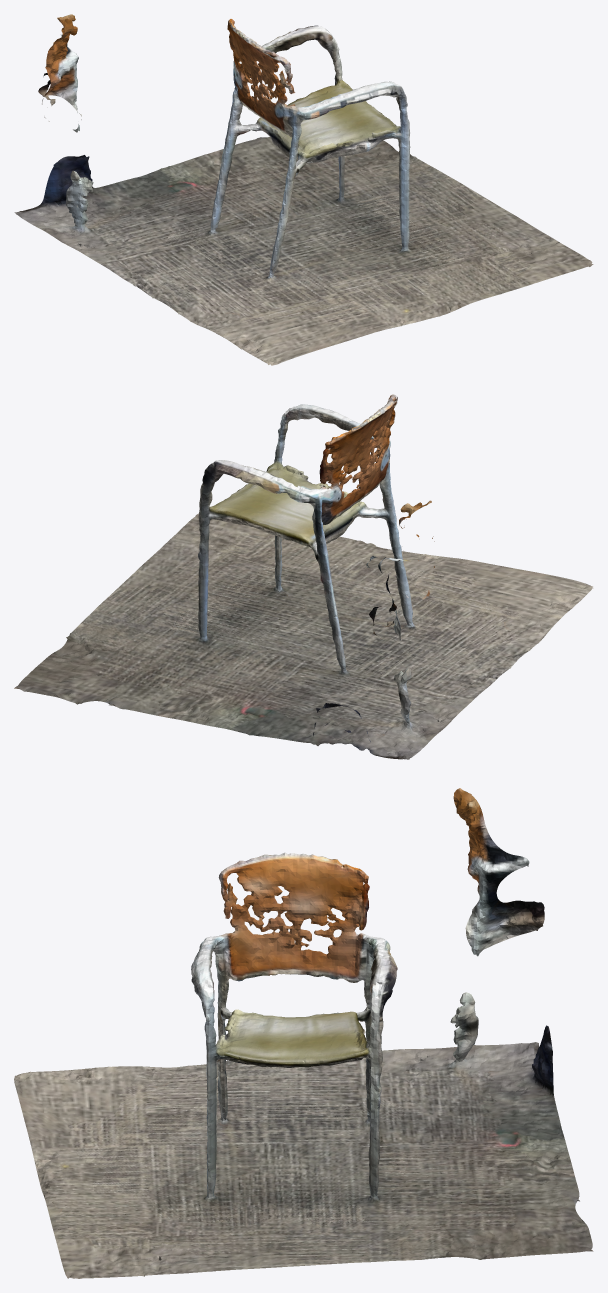
The model's file is test-scan.glb.
The picture shows the model from 3 angles, top to bottom: view 1: azimuth 30°, elevation 25°; view 2: azimuth 150°, elevation 25°; view 3: azimuth 270°, elevation 25°; orthographic projection. The views are drawn at different scales.
Bounding box in the file's own units: 1.55 × 0.8706 × 1.65.
1 material, 1 textured.
